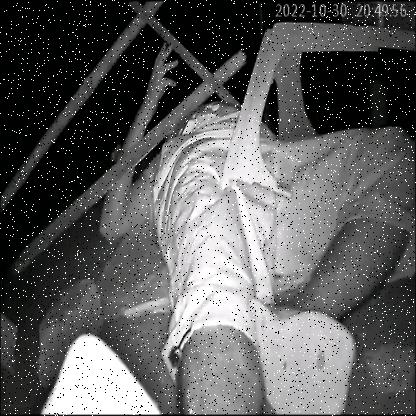hand: (99, 29, 182, 176)
leg: (246, 205, 391, 414)
